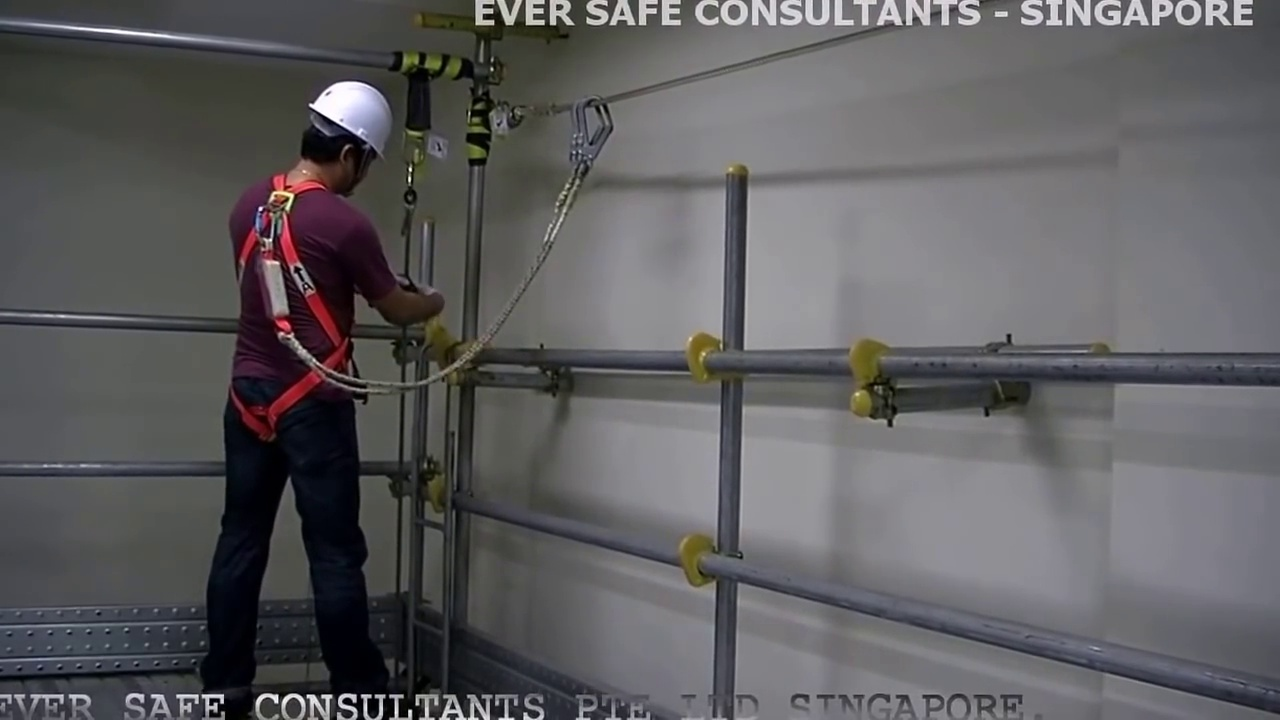harness: (235, 169, 343, 435)
helmet: (302, 77, 396, 148)
hook: (563, 92, 615, 160)
leash: (447, 196, 577, 376)
